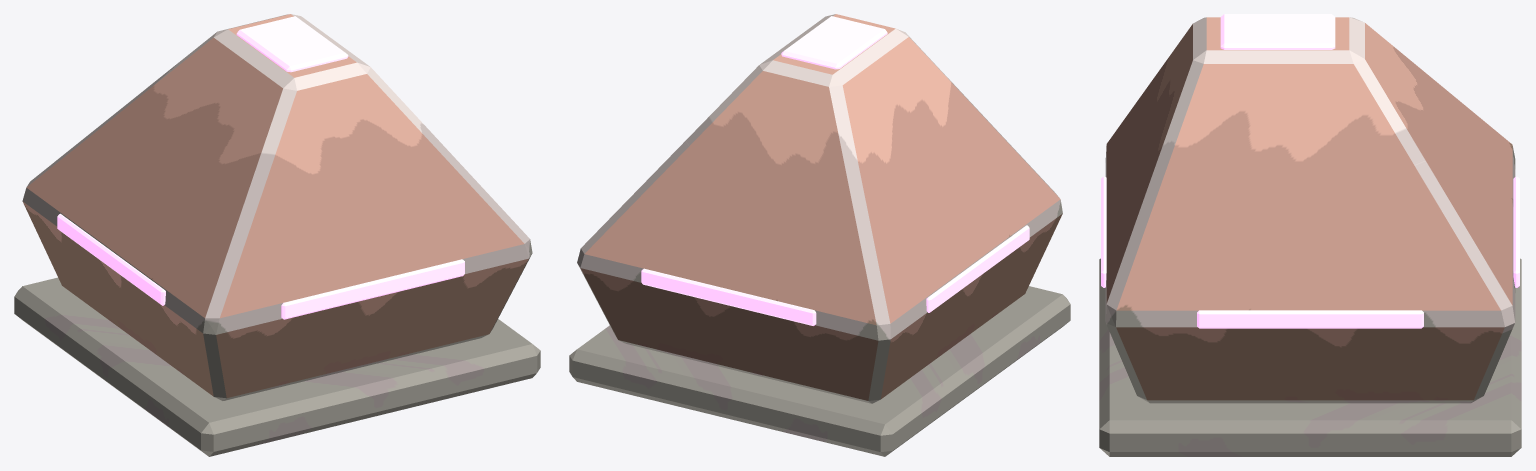
File: R4X_Stealth_LOD1.glb
The picture shows the model from 3 angles, left to right: view 1: azimuth 30°, elevation 25°; view 2: azimuth 150°, elevation 25°; view 3: azimuth 270°, elevation 25°; orthographic projection. The views are drawn at different scales.
Visible parts, largest first — view 1: R4X_Stealth_LOD1; view 2: R4X_Stealth_LOD1; view 3: R4X_Stealth_LOD1.
Boxes of the visible parts, x1,y1,x2,y2 form: R4X_Stealth_LOD1: (14, 14, 540, 456); R4X_Stealth_LOD1: (569, 14, 1070, 456); R4X_Stealth_LOD1: (1099, 14, 1521, 456).
Size of the model in its own units: 0.52 by 0.4669 by 0.52.
3 materials, 2 textured.
